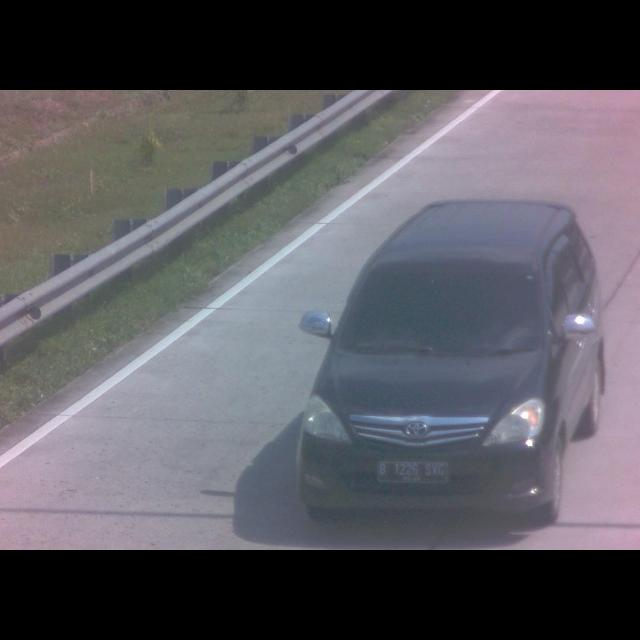plate: (374, 459, 450, 486)
